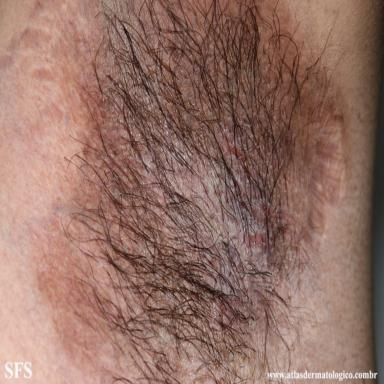Hailey-Hailey-Disease: (96, 2, 278, 313)
